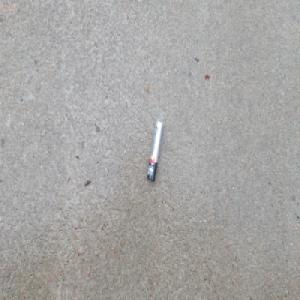Battery: (146, 119, 163, 184)
